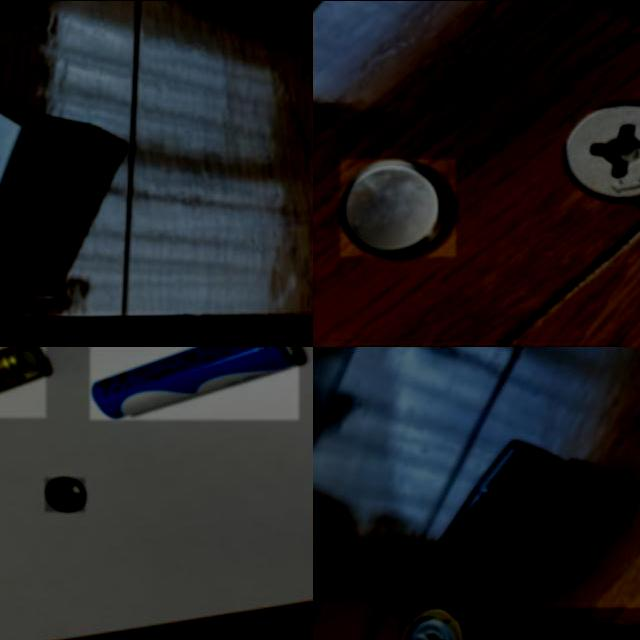9V: (0, 313, 200, 346)
